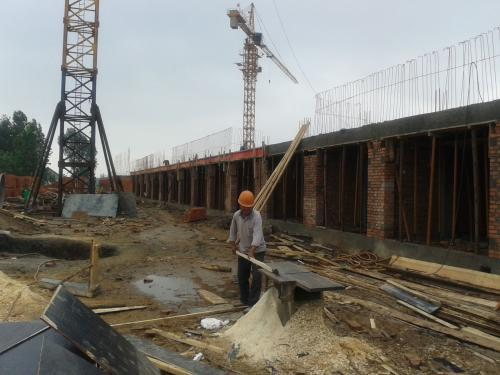helmet: (235, 189, 255, 218)
